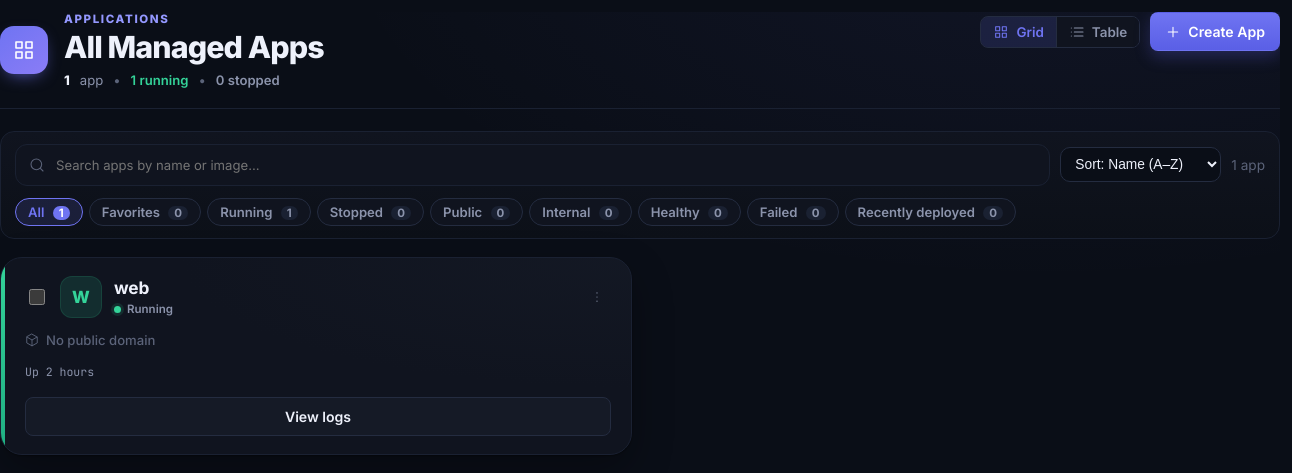
AppsPage — grid/table view toggle › defaults to grid, switches to table, and persists the choice
Step 1. Click the button "Table" → (1098,32), box [1056,16,1139,46]
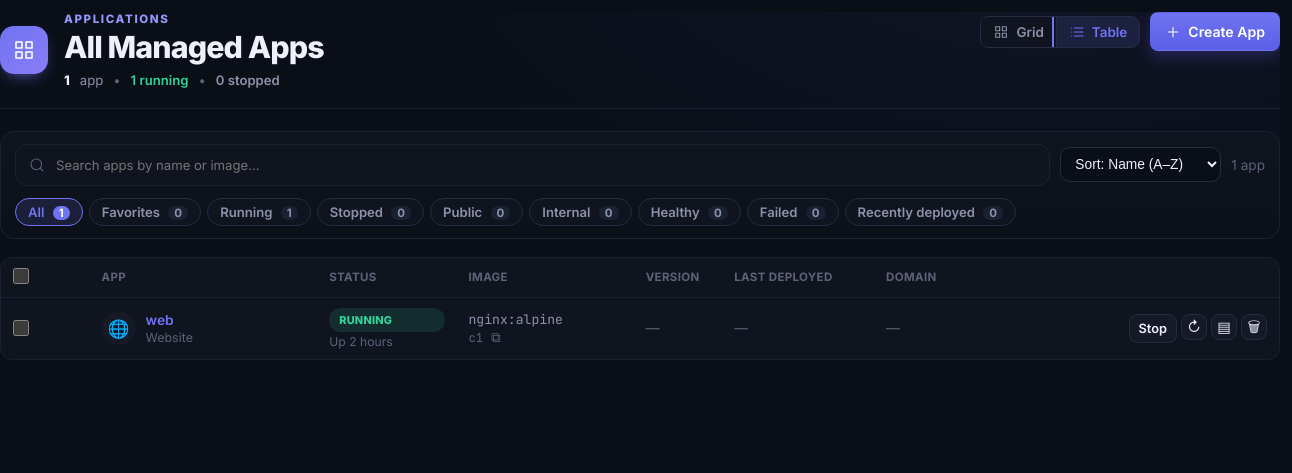
Now the table is shown, box [1,258,1279,359]
